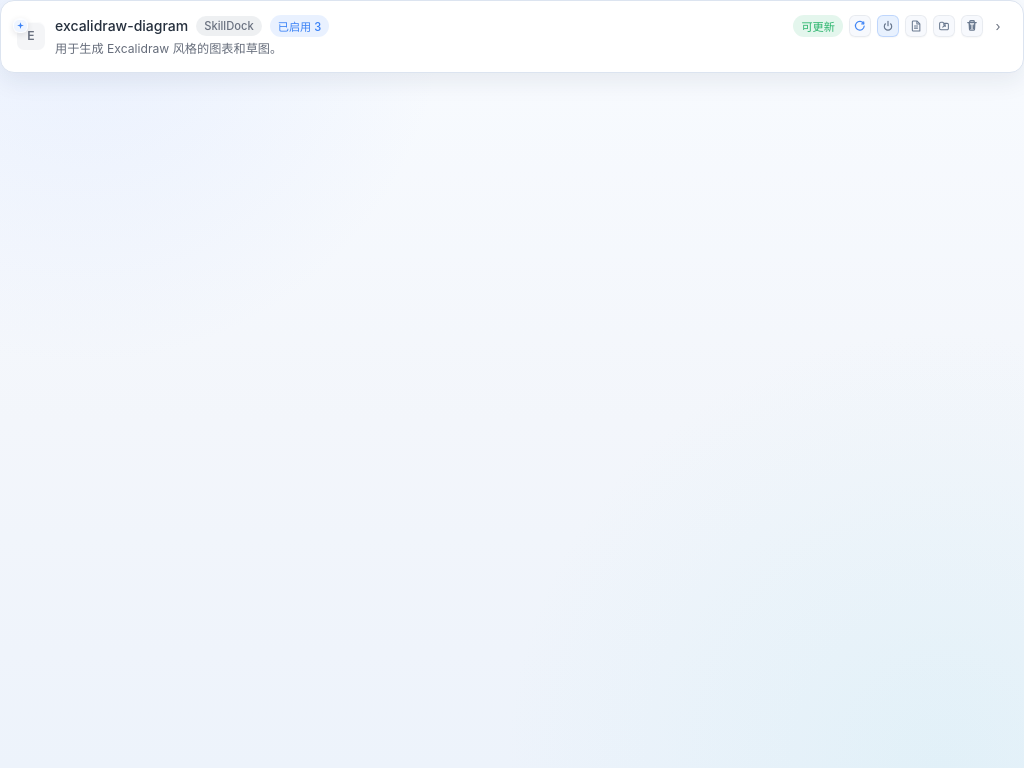
Test: opens update contents from the preview entry for an updateable git skill
This screenshot has width=1024, height=768.
Click the button named "查看 excalidraw-diagram 更新预览": point(916, 26) [905,15,927,37]
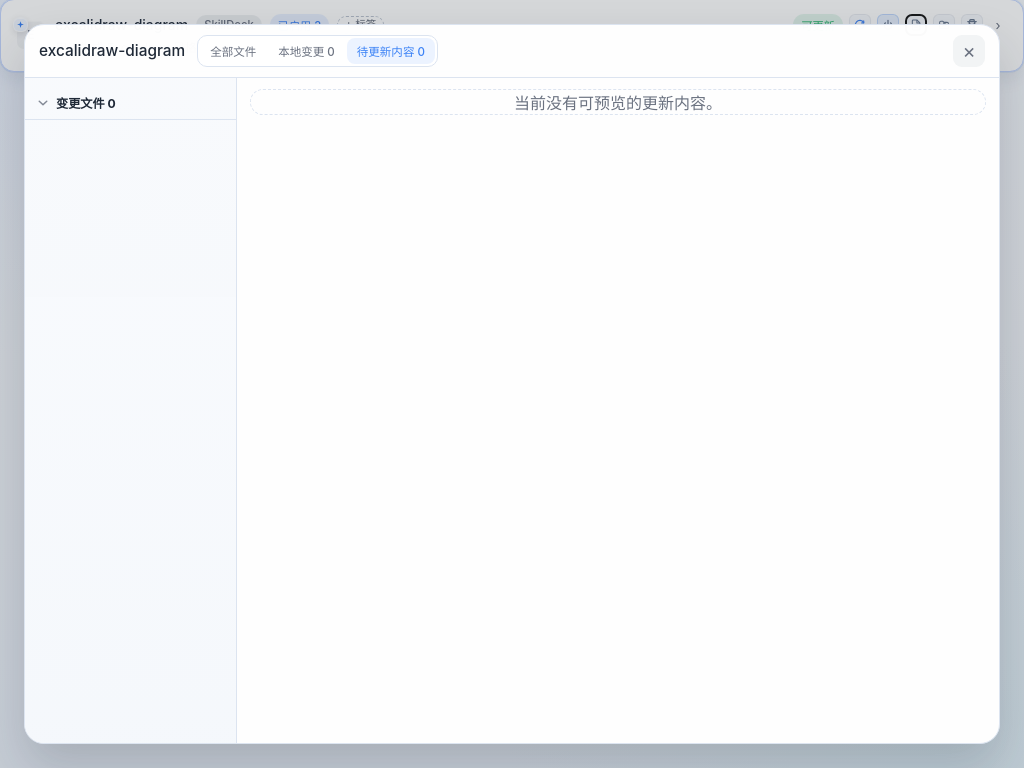
Expected: the dialog "excalidraw-diagram" is shown
